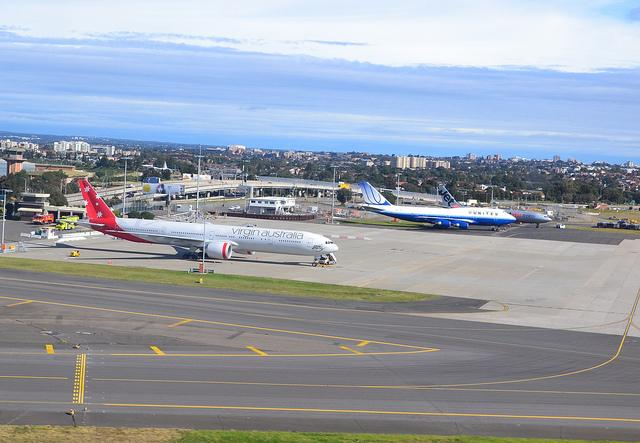airplane: (63, 178, 344, 268), (356, 180, 517, 230), (437, 184, 554, 228)
